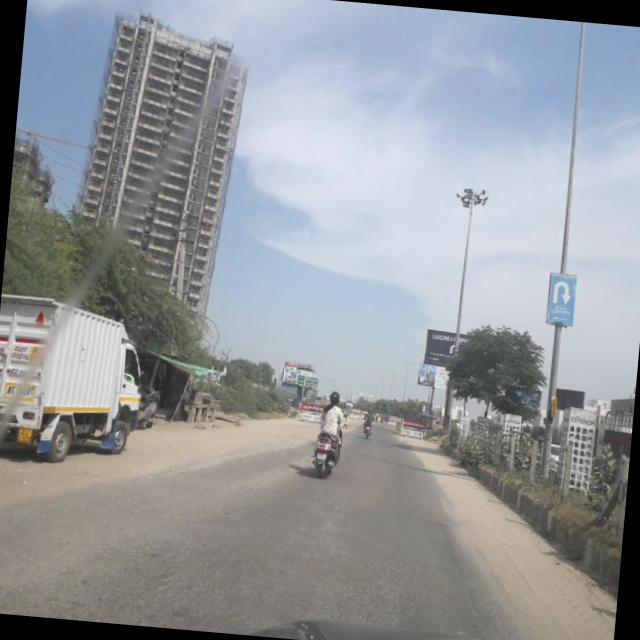crack: (39, 500, 447, 630)
